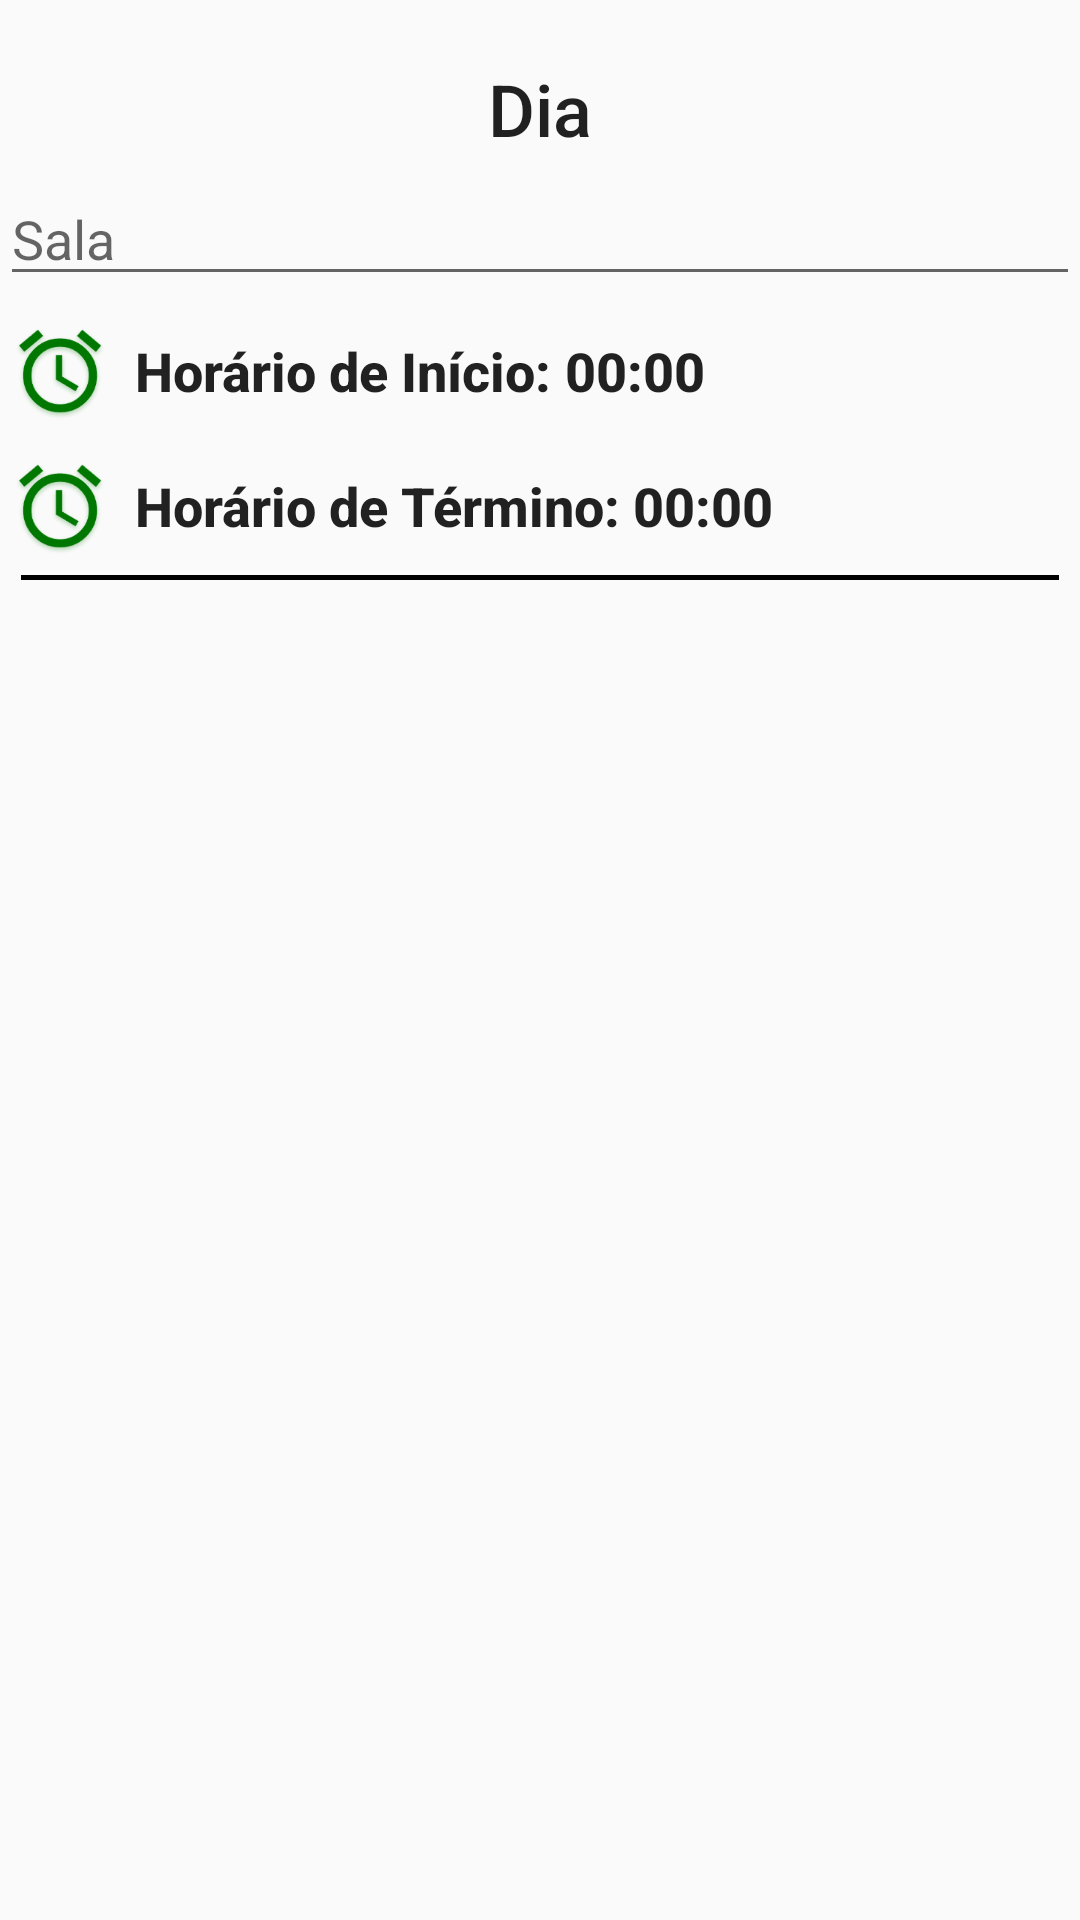

Icon click points for this 1080px x 1920px phone screenshot, format [x,y]:
alarm: [60,373], [60,508]
